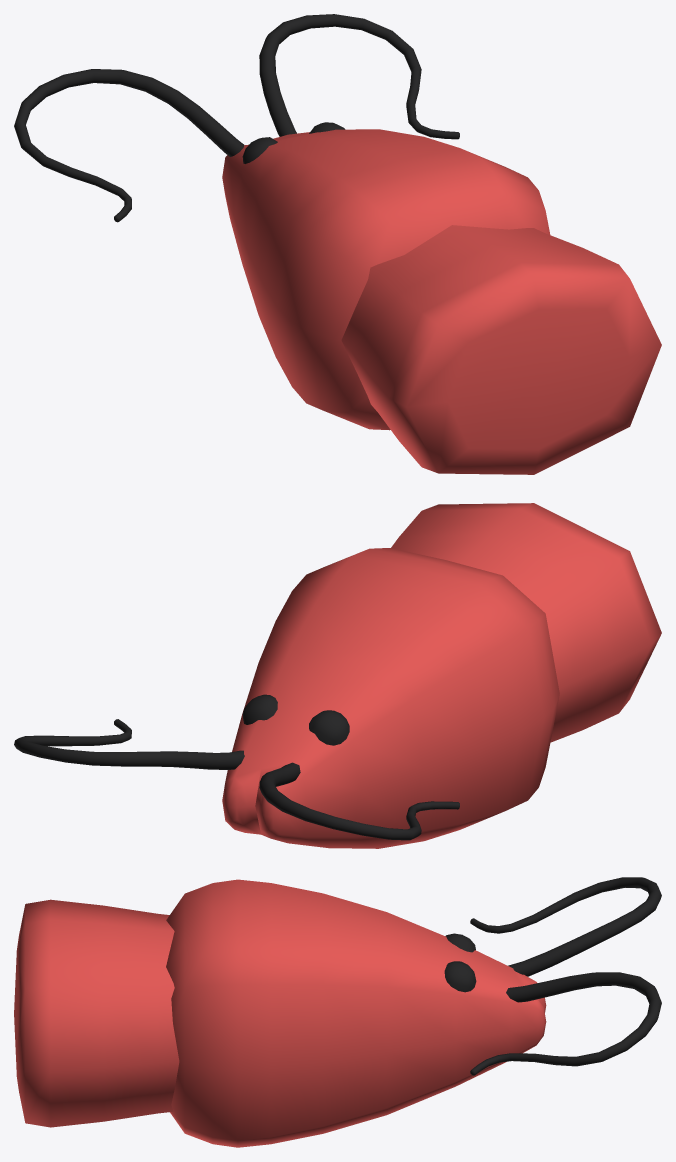
Rendered from Lobster_2_Half_1.fbx.
3 views of the same model, one above another, from view 1: azimuth 30°, elevation 25°; view 2: azimuth 150°, elevation 25°; view 3: azimuth 270°, elevation 25° (orthographic). The views are drawn at different scales.
Visible parts, largest first — view 1: Lobster_2_Half_1; view 2: Lobster_2_Half_1; view 3: Lobster_2_Half_1.
Boxes of the visible parts, box(x1,y1,x2,y2) form: Lobster_2_Half_1: box(14, 14, 661, 474); Lobster_2_Half_1: box(14, 503, 661, 848); Lobster_2_Half_1: box(14, 877, 661, 1147).
Bounding box in the file's own units: 23.41 × 13.52 × 36.93.
